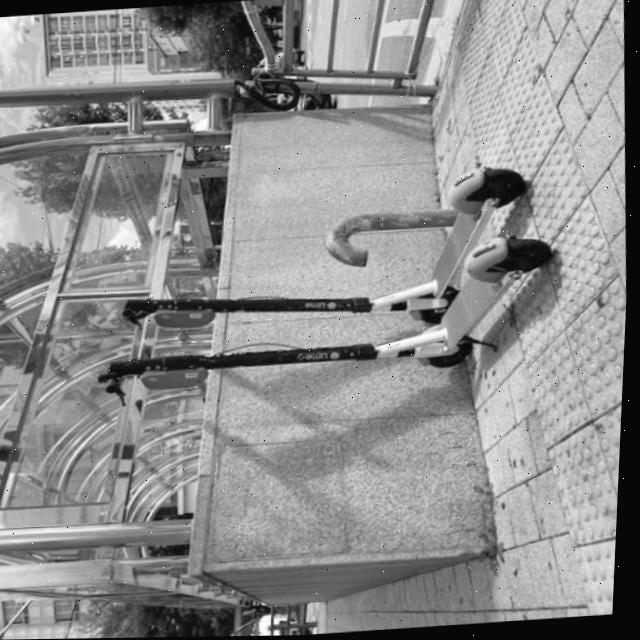kickboard_no: (95, 323, 475, 404), (536, 247, 629, 564), (101, 271, 446, 336), (451, 232, 549, 311), (445, 165, 530, 229)
tactile_paving: (450, 0, 567, 146)
